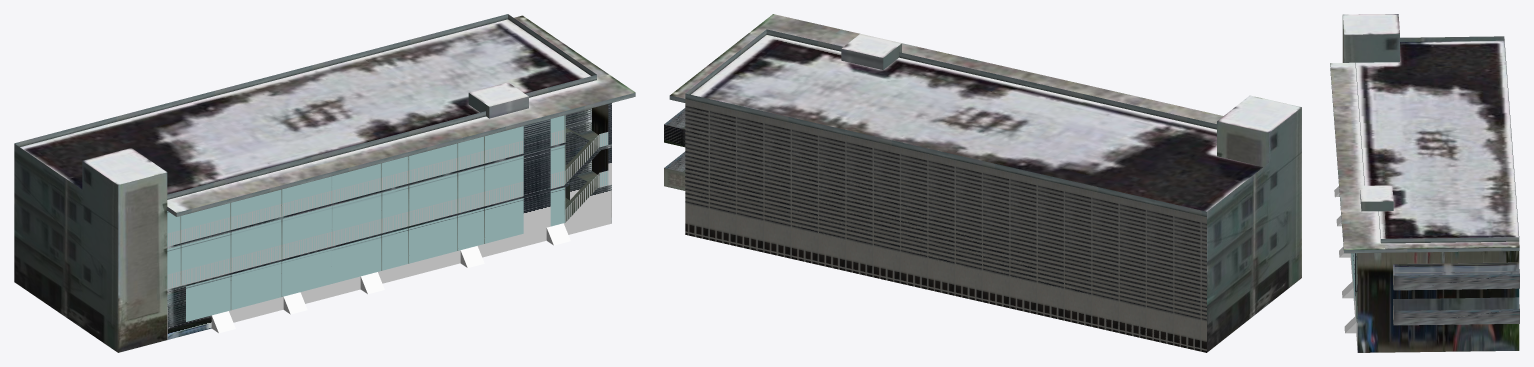
3 views of the same model, side by side, from view 1: azimuth 30°, elevation 25°; view 2: azimuth 150°, elevation 25°; view 3: azimuth 270°, elevation 25° (orthographic). The views are drawn at different scales.
Parts seen in each view (by area): view 1: Model; view 2: Model; view 3: Model.
Boxes of the visible parts, x1,y1,x2,y2 form: Model: (14, 14, 635, 352); Model: (664, 14, 1301, 352); Model: (1330, 14, 1519, 352).
Size of what is drawn, in the model's own units: 35.15 by 10.68 by 13.37.
